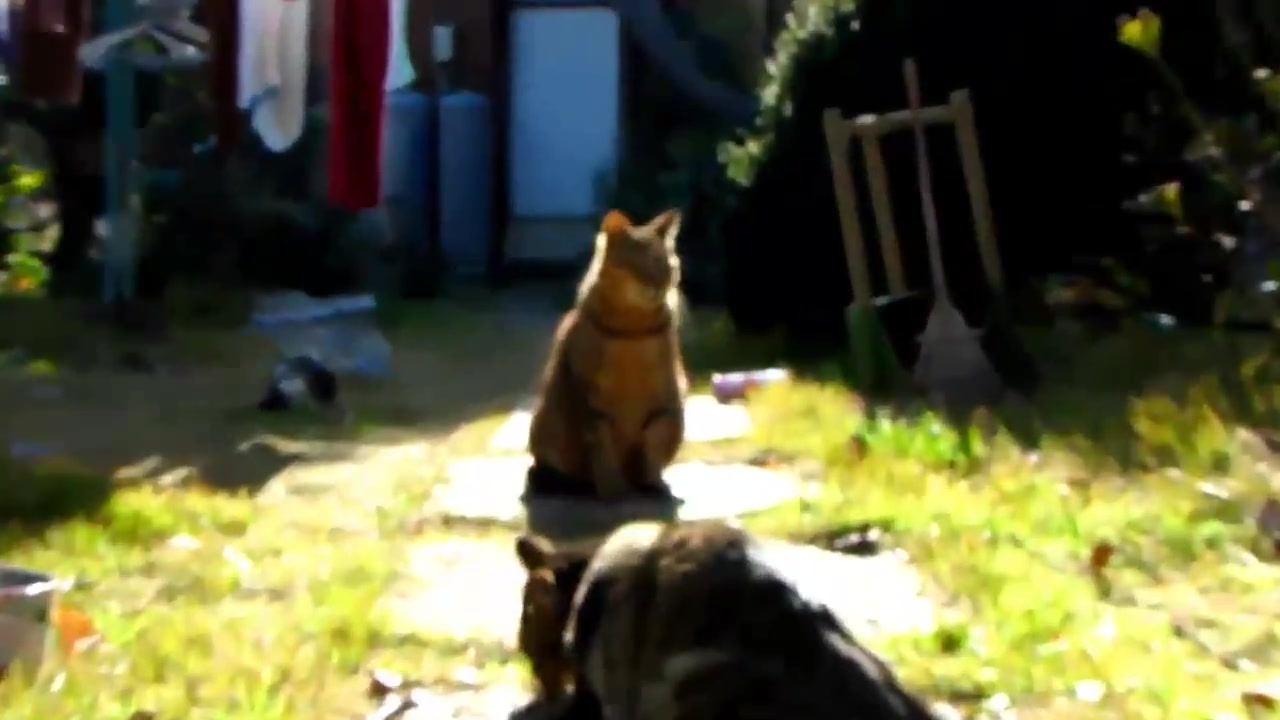cat: (516, 522, 940, 720), (530, 210, 688, 502)
